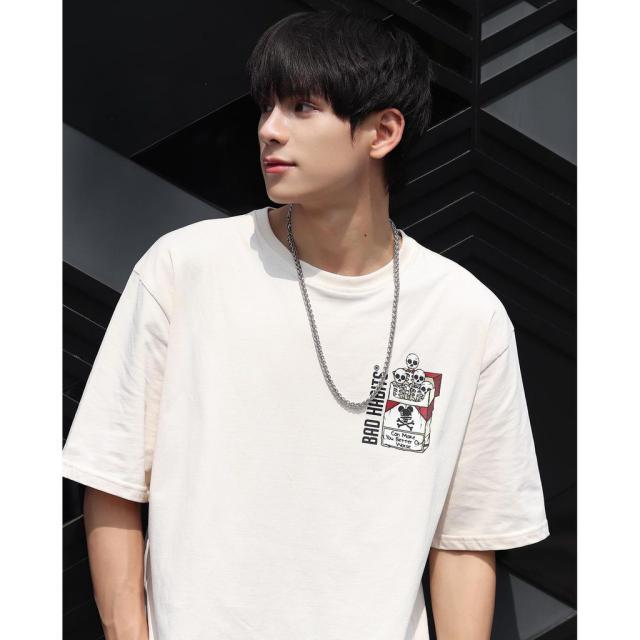Shirt: (61, 200, 553, 640)
